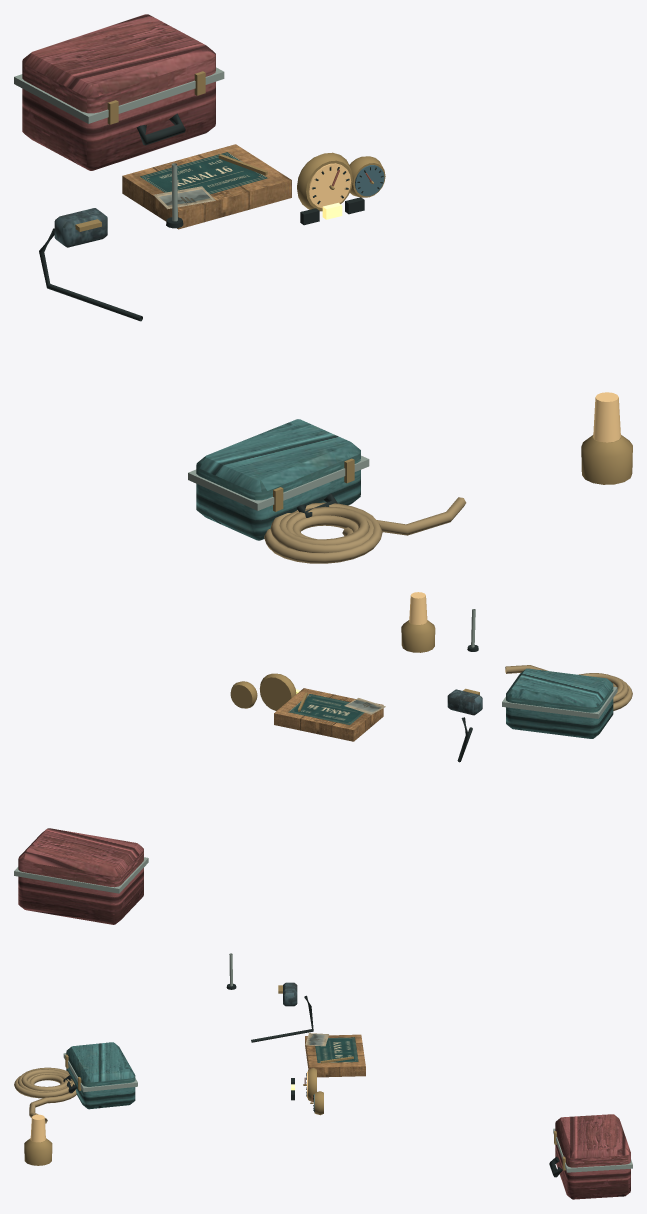
File: launch.glb
3 renders of one model, top to bottom at view 1: azimuth 30°, elevation 25°; view 2: azimuth 150°, elevation 25°; view 3: azimuth 270°, elevation 25°, orthographic. The views are drawn at different scales.
Visible parts, largest first — view 1: Steuerstand, Seefunk und Maras Karte; view 2: Steuerstand, Seefunk und Maras Karte; view 3: Steuerstand, Seefunk und Maras Karte.
Part boxes in pixels (x1=…): Steuerstand, Seefunk und Maras Karte: x1=14, y1=14, x2=632, y2=563; Steuerstand, Seefunk und Maras Karte: x1=14, y1=592, x2=632, y2=924; Steuerstand, Seefunk und Maras Karte: x1=14, y1=953, x2=632, y2=1199.
Size of the model in its own units: 1.61 by 0.9652 by 3.53.
14 materials, 5 textured.
